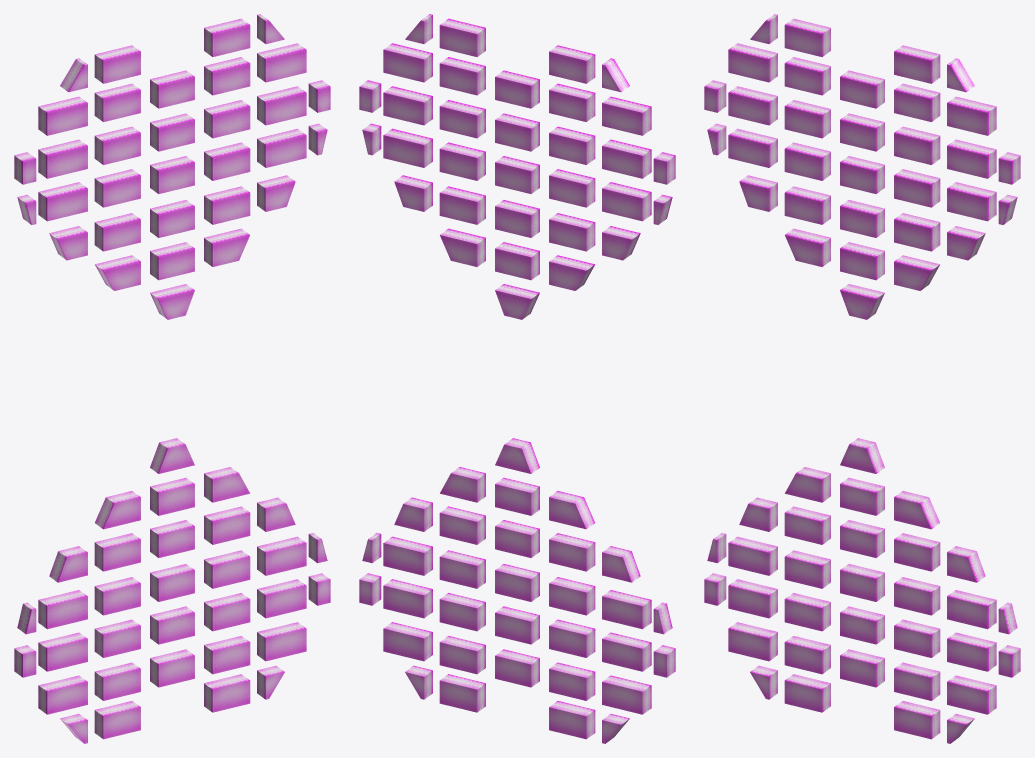
The model's file is furni_0200202.FBX.
The picture shows the model from 3 angles, left to right: view 1: azimuth 30°, elevation 25°; view 2: azimuth 150°, elevation 25°; view 3: azimuth 330°, elevation 25°; orthographic projection.
Parts seen in each view (by area): view 1: furni_0200202; view 2: furni_0200202; view 3: furni_0200202.
Part boxes in pixels (bbox=[...]): furni_0200202: bbox=[14, 14, 330, 743]; furni_0200202: bbox=[359, 14, 675, 743]; furni_0200202: bbox=[704, 14, 1020, 743].
Bounding box in the file's own units: 75.03 × 158 × 3.72.
1 material, 1 textured.
